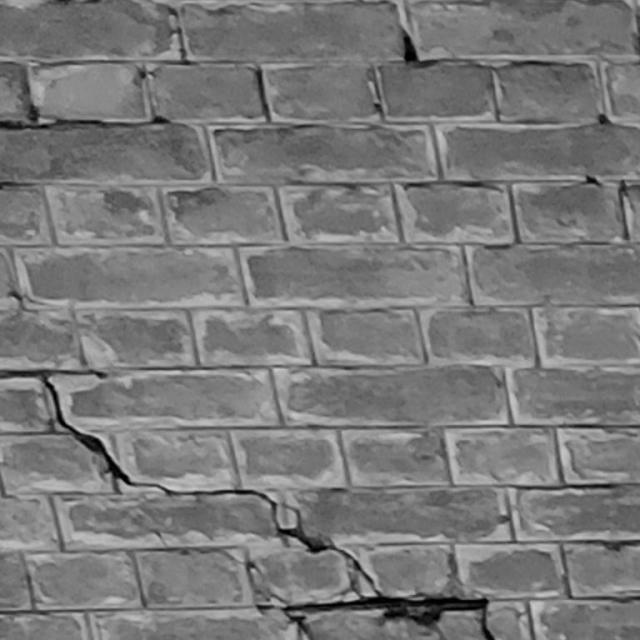crack: (1, 369, 496, 640)
